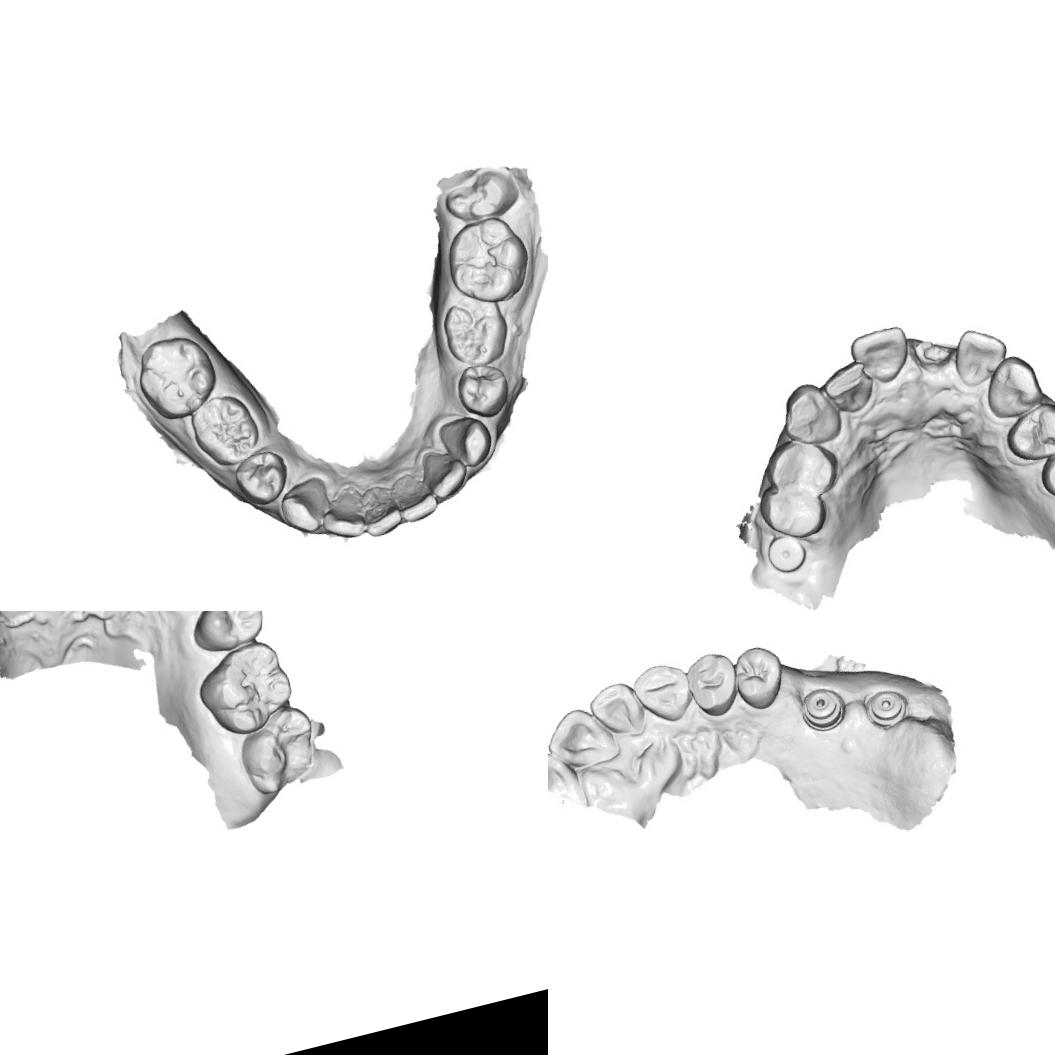canine: (772, 375, 848, 453), (976, 349, 1048, 424), (628, 656, 698, 729), (436, 409, 498, 474), (274, 476, 330, 540)
implant: (794, 681, 850, 736), (858, 682, 914, 734), (760, 530, 810, 578)
incisor: (548, 700, 620, 775), (945, 319, 1015, 391), (846, 322, 914, 390), (584, 676, 648, 744), (820, 358, 880, 419), (314, 486, 374, 546), (382, 468, 442, 526), (418, 447, 474, 505), (355, 478, 407, 540)
molar: (188, 634, 300, 744), (436, 208, 541, 312), (229, 702, 328, 804), (128, 327, 224, 426), (184, 386, 268, 473), (434, 158, 524, 230), (435, 292, 516, 371)
premolar: (758, 430, 844, 506), (752, 472, 832, 546), (680, 646, 746, 722), (727, 638, 792, 714), (227, 442, 295, 512), (450, 356, 518, 424), (996, 396, 1055, 468), (185, 611, 270, 658), (1032, 435, 1055, 505)
